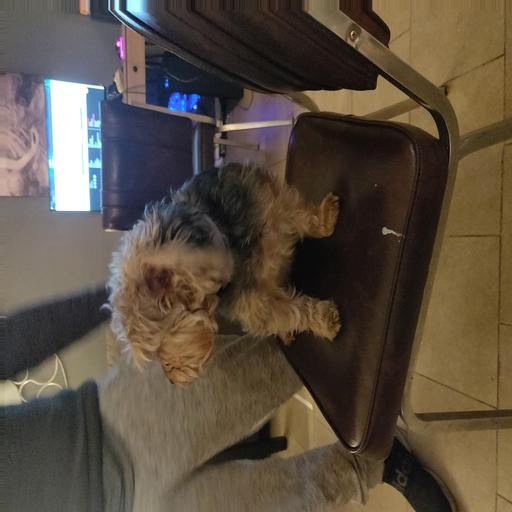dog: (104, 159, 336, 391)
